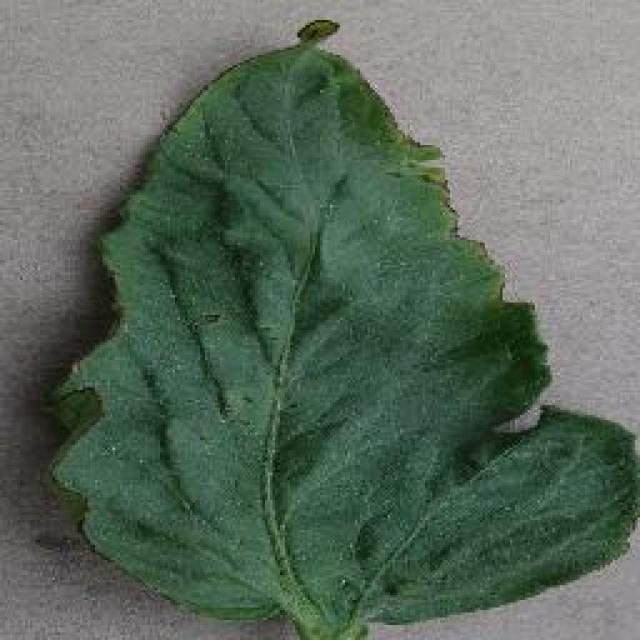Tomato bacterial spot leaf: (85, 15, 640, 635)
